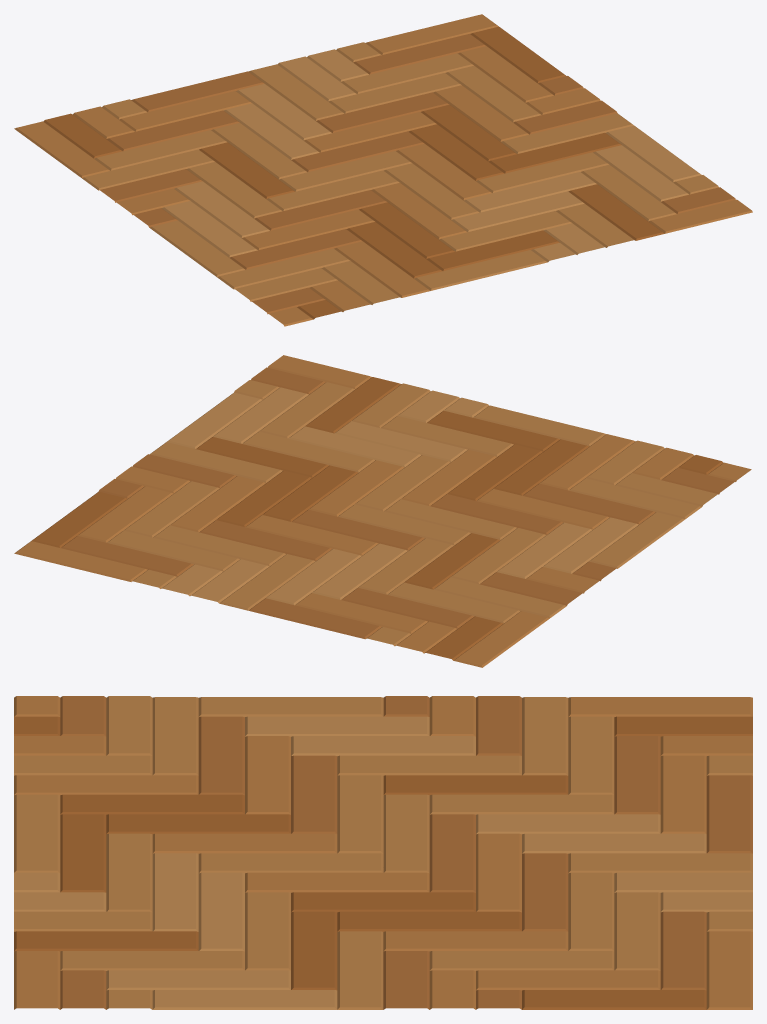
Rendered from floor-parquet.glb.
3 renders of one model, top to bottom at view 1: azimuth 30°, elevation 25°; view 2: azimuth 150°, elevation 25°; view 3: azimuth 270°, elevation 25°, orthographic. The views are drawn at different scales.
Visible parts, largest first — view 1: floor-parquet; view 2: floor-parquet; view 3: floor-parquet.
Boxes of the visible parts, left/top/right/bottom form: floor-parquet: left=14, top=14, right=752, bottom=326; floor-parquet: left=14, top=355, right=751, bottom=667; floor-parquet: left=14, top=696, right=752, bottom=1009.
Size of the model in its own units: 2 by 0.005 by 2.
